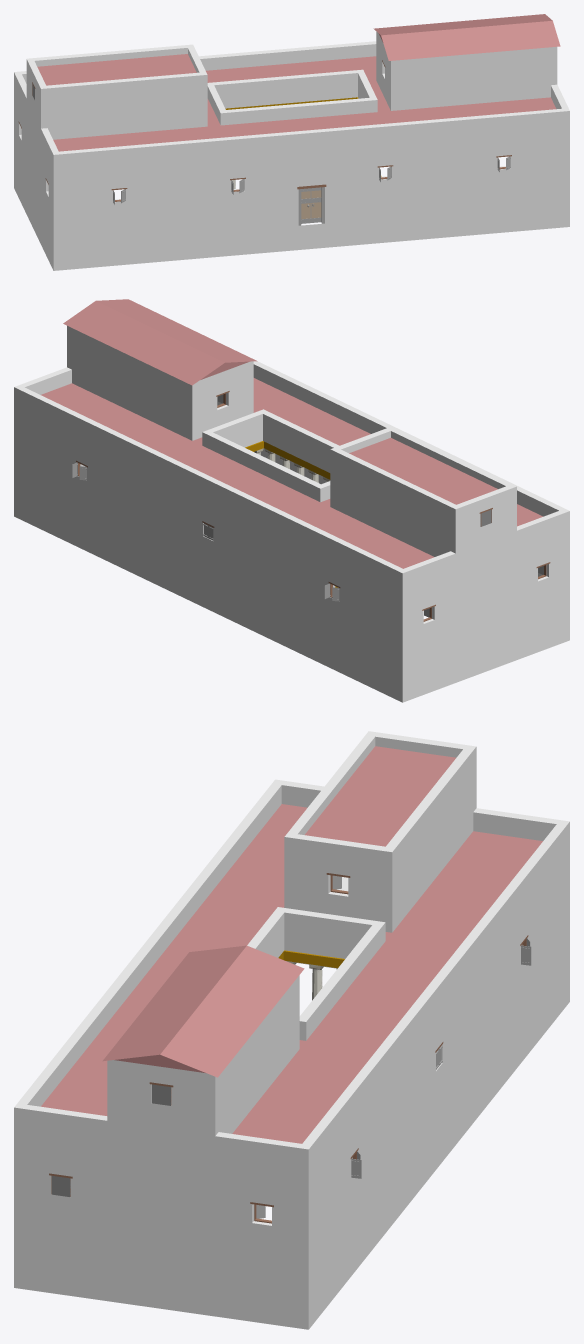
File: LOD_Block_0_15.glb
3 views of the same model, one above another, from view 1: azimuth 30°, elevation 25°; view 2: azimuth 150°, elevation 25°; view 3: azimuth 270°, elevation 25° (orthographic). The views are drawn at different scales.
Parts seen in each view (by area): view 1: _1.102; view 2: _1.102; view 3: _1.102.
Part boxes in pixels (left/top/right/bottom): _1.102: left=14, top=14, right=569, bottom=270; _1.102: left=14, top=299, right=569, bottom=702; _1.102: left=14, top=731, right=569, bottom=1329.
Size of the model in its own units: 41.97 by 13.53 by 26.66.
21 materials, 2 textured.
